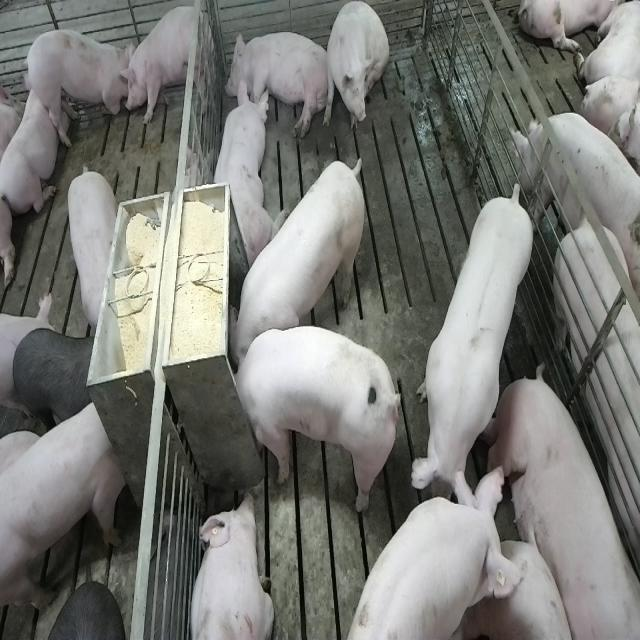Feeding: (228, 321, 402, 517), (220, 145, 368, 363)
Lateral_lying: (484, 362, 640, 640), (224, 28, 332, 138)
Sitting: (323, 0, 392, 133)
Standing: (408, 182, 534, 514), (550, 208, 640, 568), (346, 468, 516, 640), (0, 394, 123, 618), (507, 112, 639, 310), (22, 28, 129, 150), (124, 2, 210, 128), (66, 162, 118, 342), (10, 328, 96, 430)
Sternal_lying: (210, 80, 286, 268), (0, 77, 62, 214)
